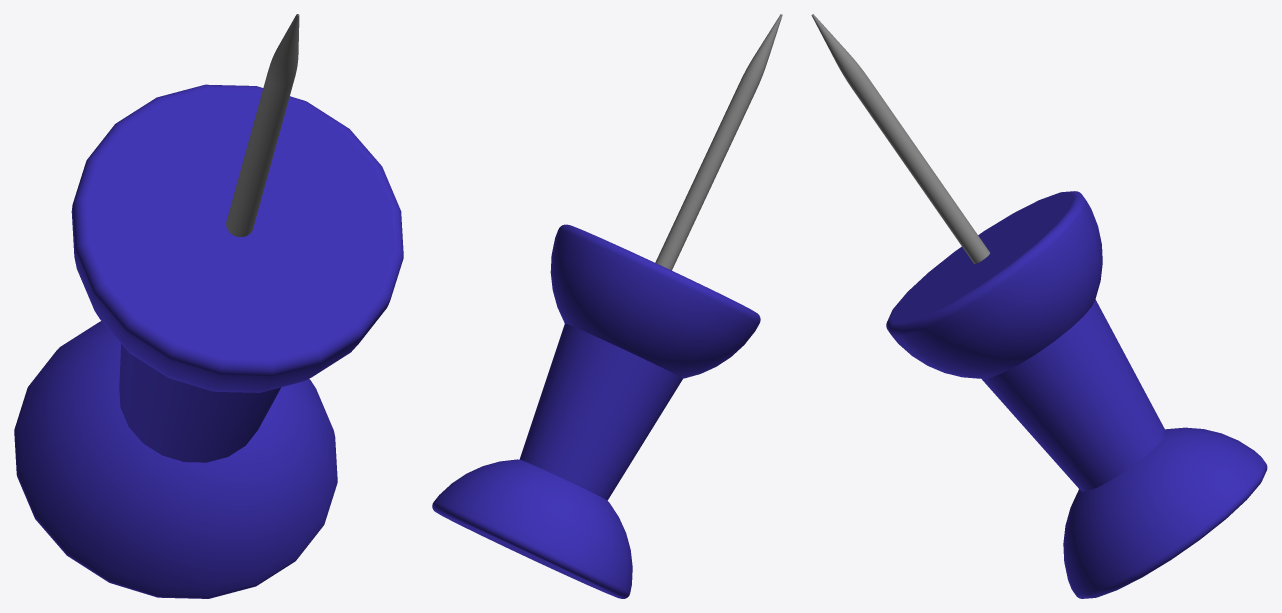
The picture shows the model from 3 angles, left to right: view 1: azimuth 30°, elevation 25°; view 2: azimuth 150°, elevation 25°; view 3: azimuth 270°, elevation 25°; orthographic projection. The views are drawn at different scales.
Parts seen in each view (by area): view 1: polySurface2, polySurface1; view 2: polySurface2, polySurface1; view 3: polySurface2, polySurface1.
Boxes of the visible parts, box(x1,y1,x2,y2) form: polySurface2: box(14, 84, 403, 598); polySurface1: box(226, 14, 299, 236); polySurface2: box(432, 224, 760, 598); polySurface1: box(655, 14, 782, 270); polySurface2: box(886, 191, 1267, 598); polySurface1: box(811, 14, 989, 263).
Size of the model in its own units: 0.0543 by 0.1112 by 0.0862.
